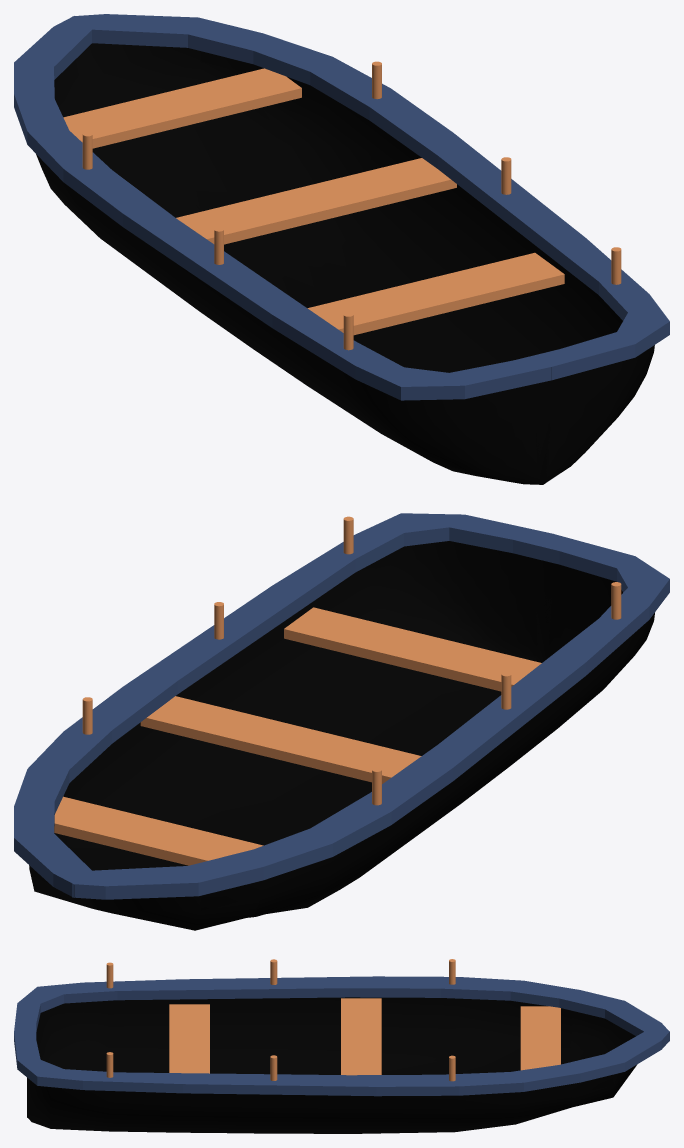
The model's file is M_016.Curragh.fbx.
3 views of the same model, one above another, from view 1: azimuth 30°, elevation 25°; view 2: azimuth 150°, elevation 25°; view 3: azimuth 270°, elevation 25° (orthographic). The views are drawn at different scales.
Visible parts, largest first — view 1: Cylinder.012; view 2: Cylinder.012; view 3: Cylinder.012.
Part boxes in pixels (box(x1,y1,x2,y2)): Cylinder.012: box(14, 14, 669, 484); Cylinder.012: box(14, 513, 669, 930); Cylinder.012: box(14, 959, 669, 1133).
Bounding box in the file's own units: 58.42 × 26.76 × 147.
